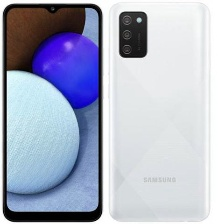phone: (104, 0, 212, 224), (1, 2, 105, 223)
